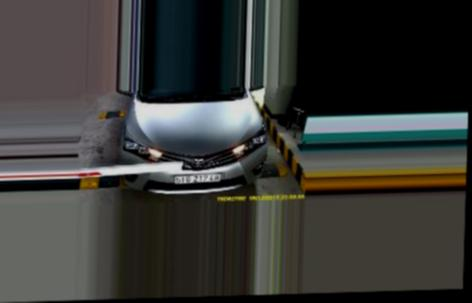License_Plate: (172, 171, 224, 187)
